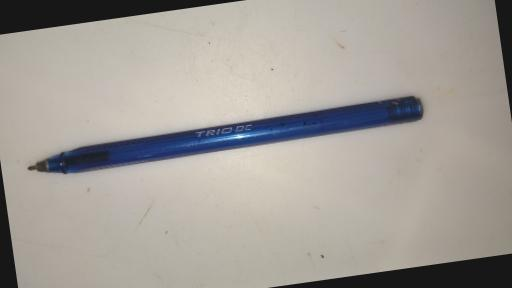pen: (24, 94, 424, 180)
